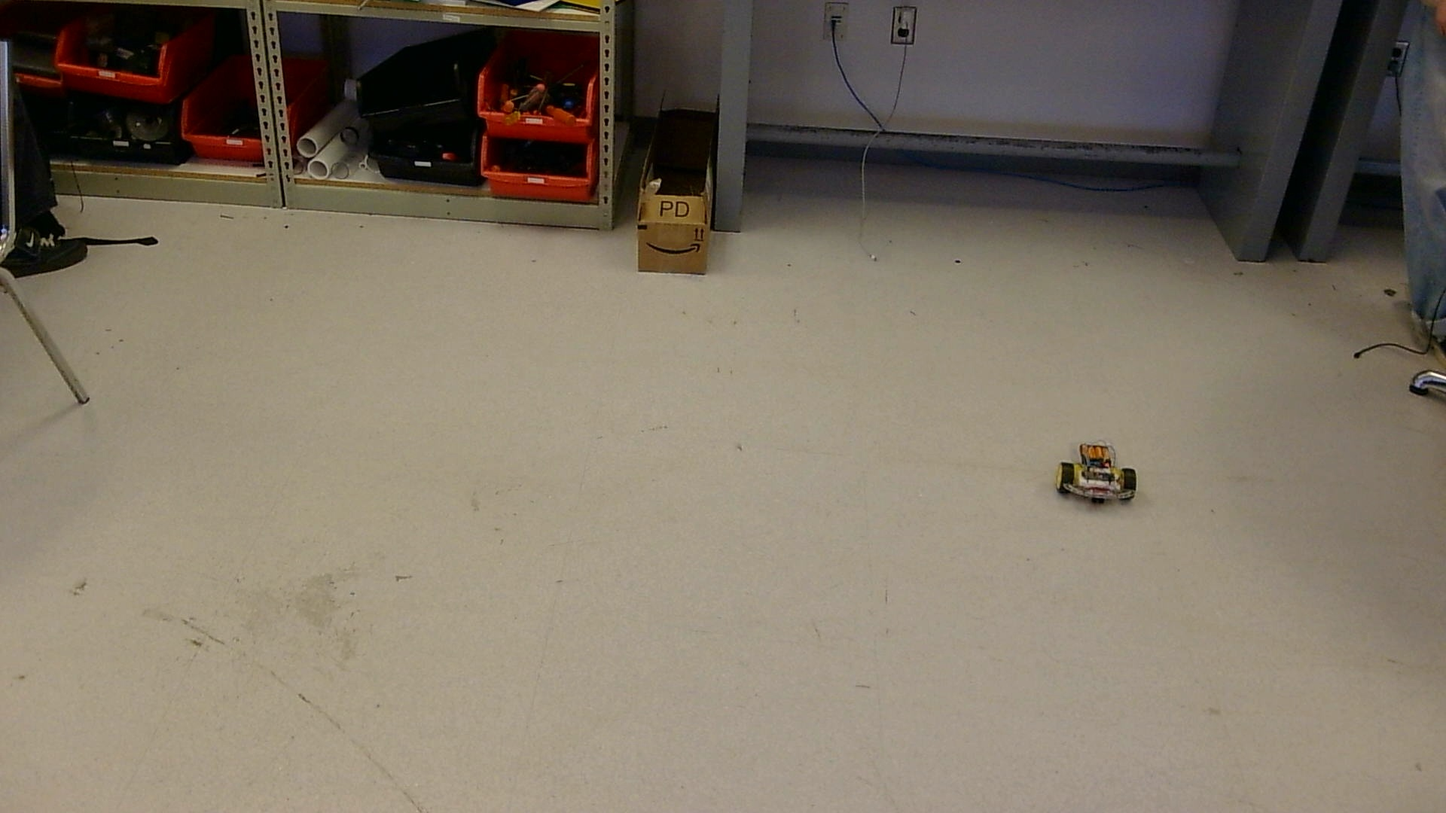robot: (1055, 442, 1136, 503)
